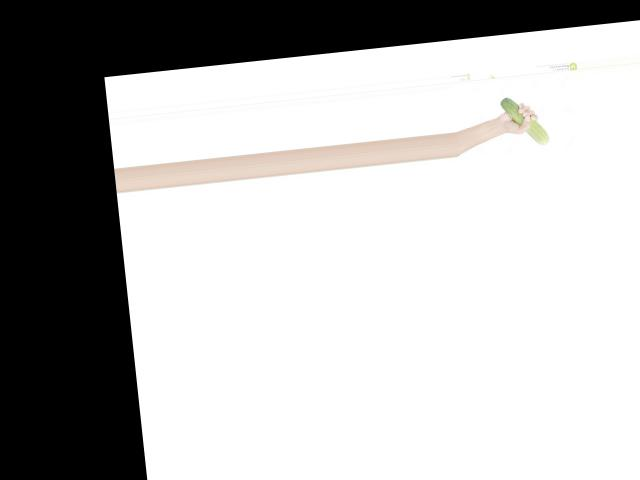cucumber: (498, 93, 549, 148)
